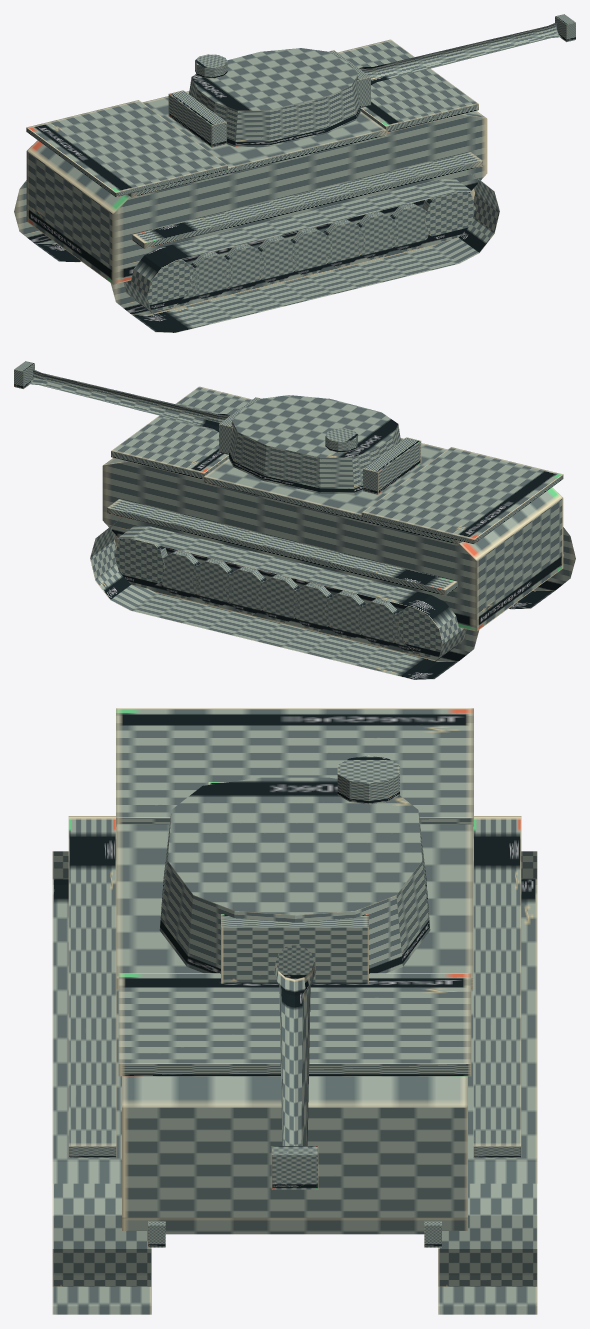
Rendered from tiger-i-uv.glb.
3 views of the same model, one above another, from view 1: azimuth 30°, elevation 25°; view 2: azimuth 150°, elevation 25°; view 3: azimuth 270°, elevation 25° (orthographic). The views are drawn at different scales.
Parts seen in each view (by area): view 1: HullArmour, Track_1, TurretShell, EngineDeck, SideSkirt_1, Foredeck, HullDeck, BarrelTube, Sprocket_1, TurretStowage, Idler_1, RoadWheel_1_2 (+10 smaller); view 2: HullArmour, Track_-1, TurretShell, EngineDeck, SideSkirt_-1, Foredeck, HullDeck, BarrelTube, Sprocket_-1, TurretStowage, Idler_-1, RoadWheel_-1_5 (+10 smaller); view 3: HullArmour, TurretShell, Foredeck, EngineDeck, Track_-1, Track_1, SideSkirt_-1, SideSkirt_1, HullDeck, Mantlet, BarrelTube, Cupola (+1 smaller).
Part boxes in pixels (x1,y1,x2,y2): HullArmour: [26, 111, 487, 284]; Track_1: [110, 170, 499, 332]; TurretShell: [189, 48, 361, 147]; EngineDeck: [26, 100, 228, 197]; SideSkirt_1: [132, 152, 482, 248]; Foredeck: [337, 39, 478, 132]; HullDeck: [127, 91, 386, 197]; BarrelTube: [359, 22, 561, 84]; Sprocket_1: [422, 191, 475, 241]; TurretStowage: [168, 90, 226, 147]; Idler_1: [147, 259, 191, 310]; RoadWheel_1_2: [190, 251, 232, 300]; HullArmour: [102, 458, 563, 631]; Track_-1: [90, 517, 479, 679]; TurretShell: [228, 395, 400, 494]; EngineDeck: [361, 447, 563, 544]; SideSkirt_-1: [107, 499, 457, 595]; Foredeck: [111, 386, 252, 479]; HullDeck: [203, 438, 462, 544]; BarrelTube: [28, 369, 230, 431]; Sprocket_-1: [114, 538, 167, 588]; TurretStowage: [363, 437, 421, 494]; Idler_-1: [398, 606, 442, 657]; RoadWheel_-1_5: [257, 574, 299, 623]; HullArmour: [122, 1076, 467, 1234]; TurretShell: [159, 777, 430, 973]; Foredeck: [118, 973, 471, 1076]; EngineDeck: [116, 708, 473, 826]; Track_-1: [438, 851, 537, 1314]; Track_1: [52, 851, 151, 1314]; SideSkirt_-1: [473, 816, 521, 1157]; SideSkirt_1: [68, 816, 116, 1157]; HullDeck: [116, 824, 473, 989]; Mantlet: [221, 914, 368, 983]; BarrelTube: [274, 945, 315, 1186]; Cupola: [337, 755, 399, 804].
Bounding box in the file's own units: 8.45 × 3 × 3.55.
1 material, 1 textured.
